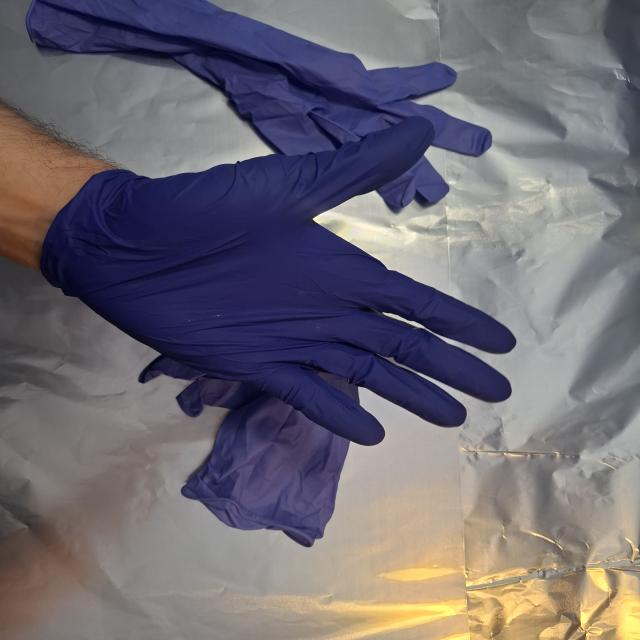glove_on: (37, 112, 522, 448)
